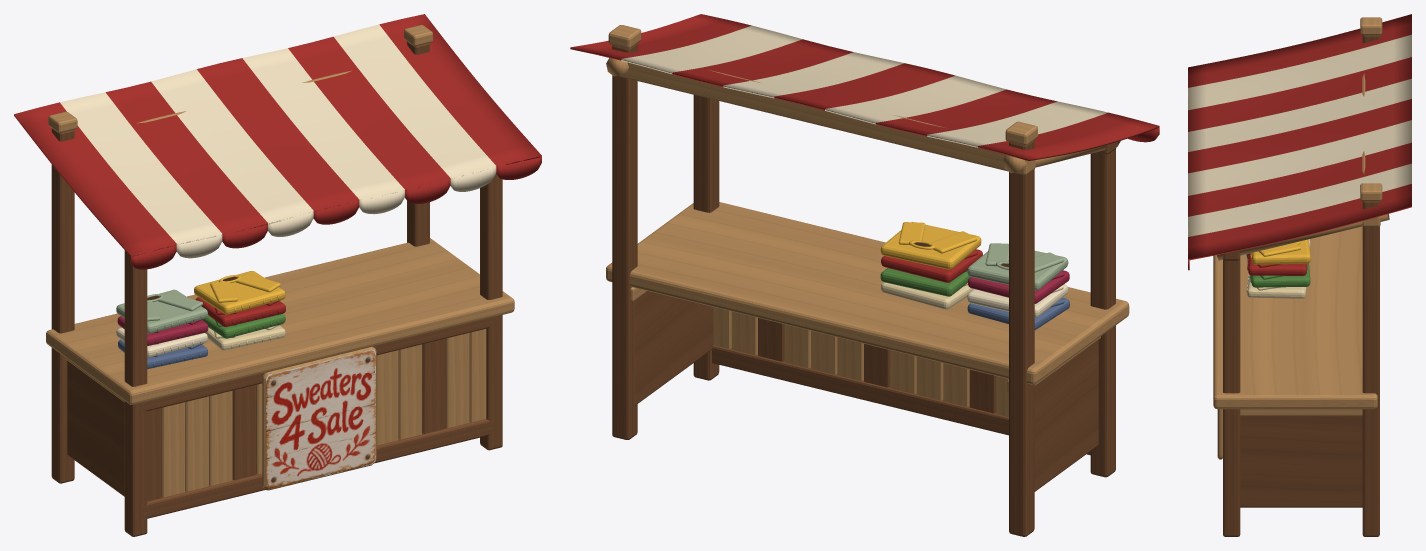
The model's file is market_stall.glb.
3 renders of one model, left to right at view 1: azimuth 30°, elevation 25°; view 2: azimuth 150°, elevation 25°; view 3: azimuth 270°, elevation 25°, orthographic. The views are drawn at different scales.
Parts seen in each view (by area): view 1: model; view 2: model; view 3: model.
Part boxes in pixels (x1=…): model: x1=14, y1=14, x2=541, y2=536; model: x1=570, y1=14, x2=1159, y2=536; model: x1=1188, y1=14, x2=1411, y2=536.
Bounding box in the file's own units: 3.12 × 2.63 × 1.54.
Materials: 18 (9 with a texture image).
